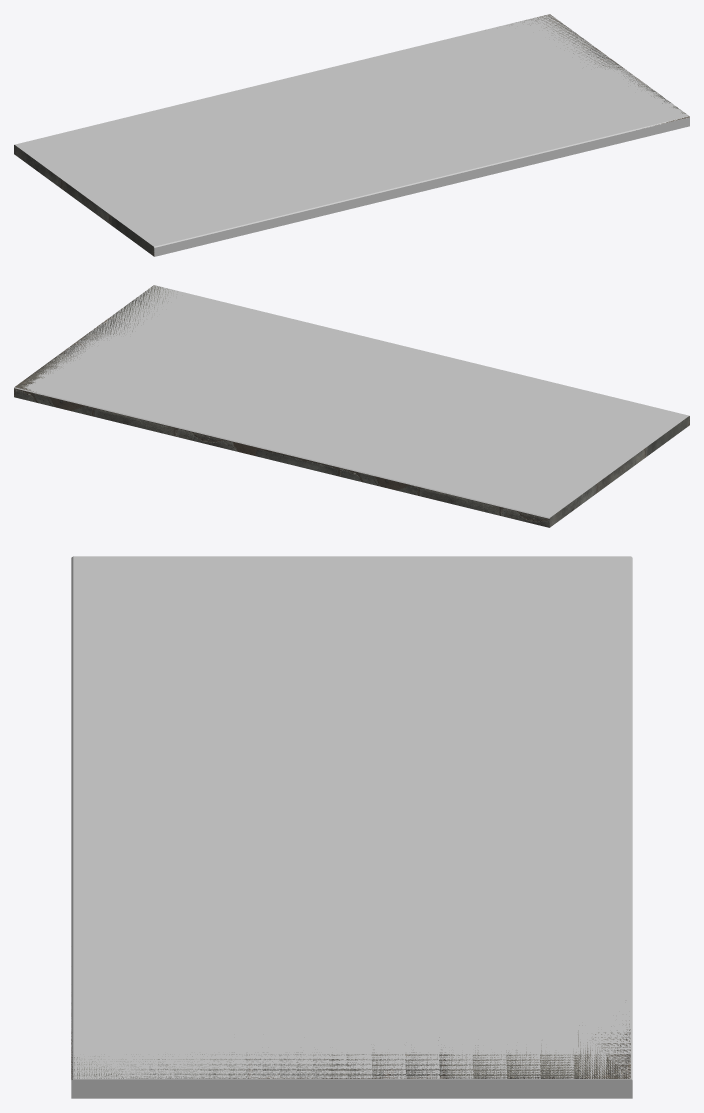
Rendered from SM_set_floor_02.fbx.
3 views of the same model, one above another, from view 1: azimuth 30°, elevation 25°; view 2: azimuth 150°, elevation 25°; view 3: azimuth 270°, elevation 25° (orthographic). The views are drawn at different scales.
Visible parts, largest first — view 1: SM_set_floor_02_ConvexHulls, SM_set_floor_02; view 2: SM_set_floor_02_ConvexHulls, SM_set_floor_02; view 3: SM_set_floor_02_ConvexHulls, SM_set_floor_02.
Part boxes in pixels (<box>): SM_set_floor_02_ConvexHulls: <box>15,14,689,256</box>; SM_set_floor_02: <box>14,14,689,256</box>; SM_set_floor_02_ConvexHulls: <box>14,285,689,518</box>; SM_set_floor_02: <box>14,285,689,527</box>; SM_set_floor_02_ConvexHulls: <box>71,556,632,1098</box>; SM_set_floor_02: <box>71,1003,630,1079</box>.
Bounding box in the file's own units: 2865 × 1300 × 50.5.
Materials: 2 (1 with a texture image).
